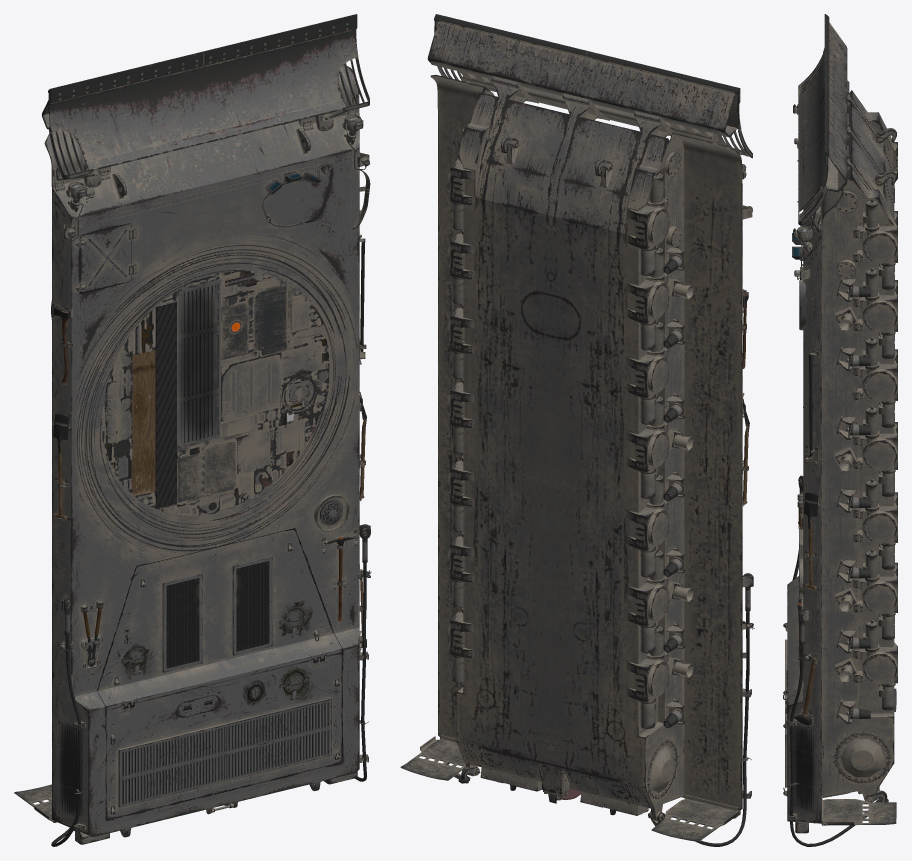
Rendered from Hull.glb.
The picture shows the model from 3 angles, left to right: view 1: azimuth 30°, elevation 25°; view 2: azimuth 150°, elevation 25°; view 3: azimuth 270°, elevation 25°; orthographic projection. The views are drawn at different scales.
Visible parts, largest first — view 1: set_0_group_0; view 2: set_0_group_0; view 3: set_0_group_0.
Part boxes in pixels (x1,y1,x2,y2): set_0_group_0: (14, 14, 371, 846); set_0_group_0: (400, 14, 754, 846); set_0_group_0: (783, 14, 897, 846).
Bounding box in the file's own units: 3.61 × 8.34 × 1.24.
Materials: 1 (1 with a texture image).
